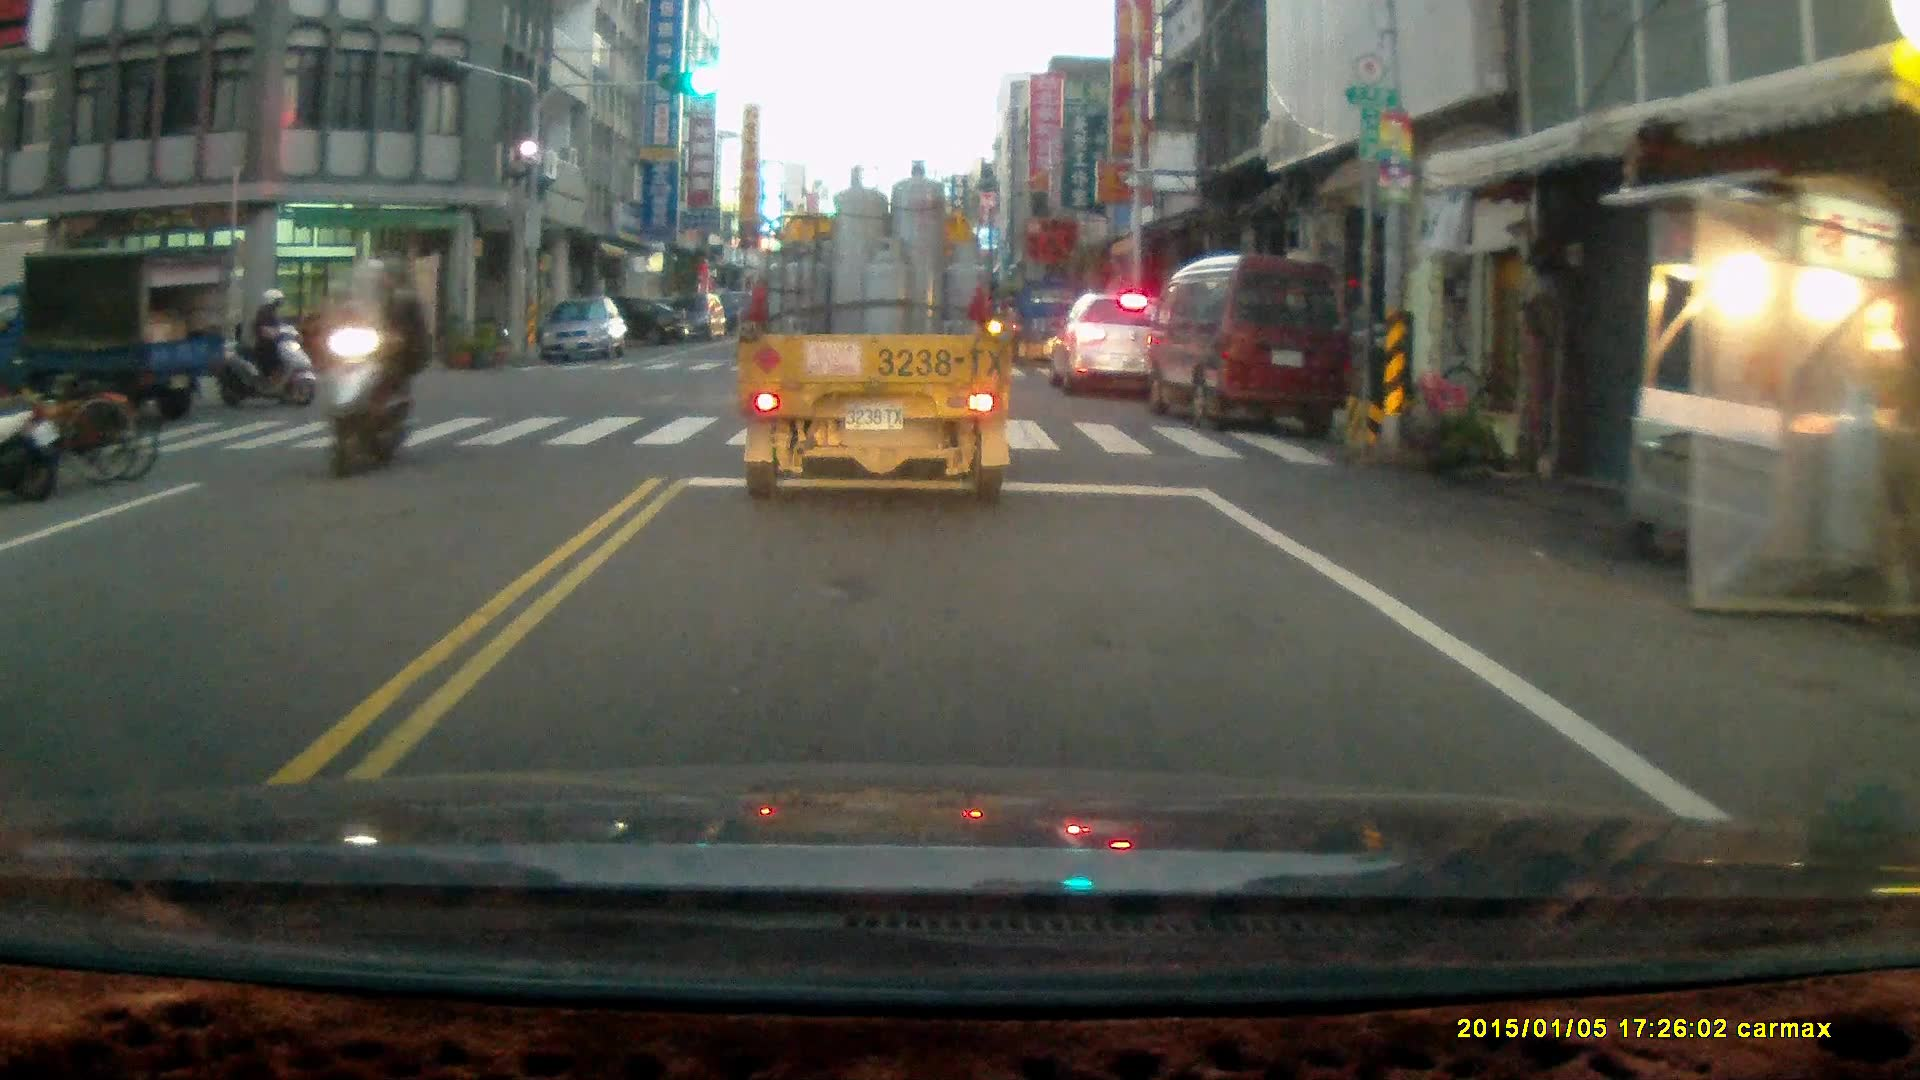rider: (324, 251, 428, 470), (214, 284, 317, 406)
vehicle: (740, 167, 1015, 507), (1, 247, 219, 426), (1145, 255, 1357, 434), (1045, 290, 1182, 403), (565, 299, 689, 357), (541, 296, 633, 362), (646, 292, 726, 342)
